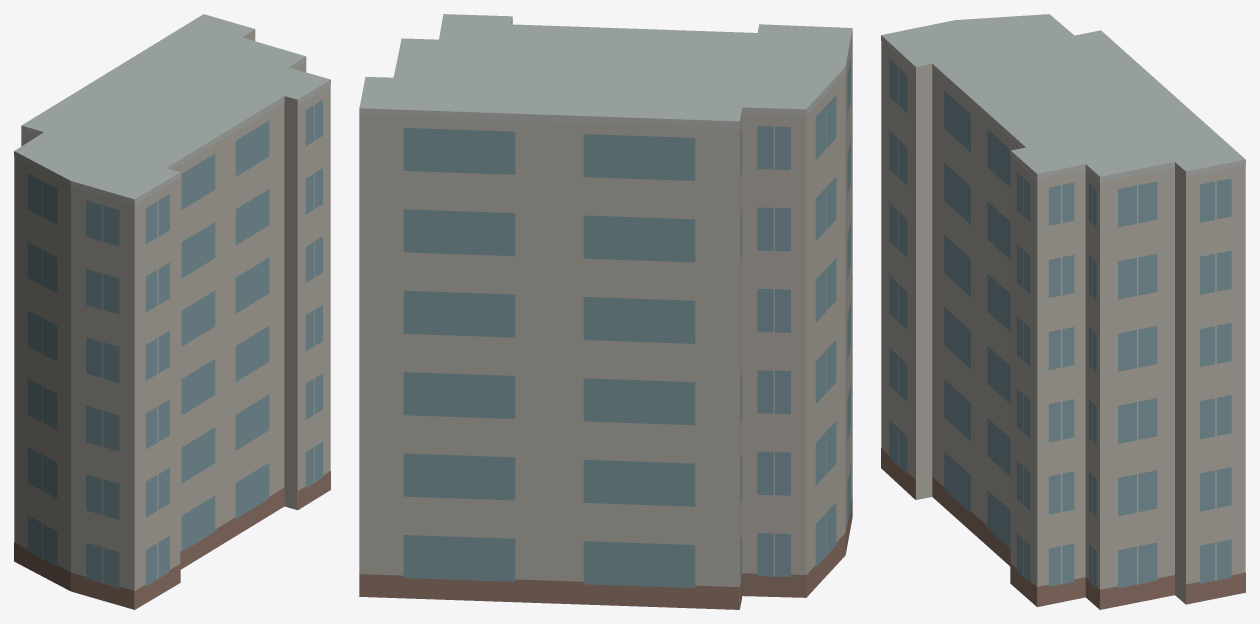
The model's file is survey-upis-32733440.glb.
3 renders of one model, left to right at view 1: azimuth 30°, elevation 25°; view 2: azimuth 150°, elevation 25°; view 3: azimuth 270°, elevation 25°, orthographic. The views are drawn at different scales.
Visible parts, largest first — view 1: survey-upis-32733440.tmp; view 2: survey-upis-32733440.tmp; view 3: survey-upis-32733440.tmp.
Part boxes in pixels (x1,y1,x2,y2): survey-upis-32733440.tmp: (14,14,330,609); survey-upis-32733440.tmp: (359,14,852,609); survey-upis-32733440.tmp: (881,14,1245,609).
Size of the model in its own units: 14.76 by 18.3 by 13.97.
